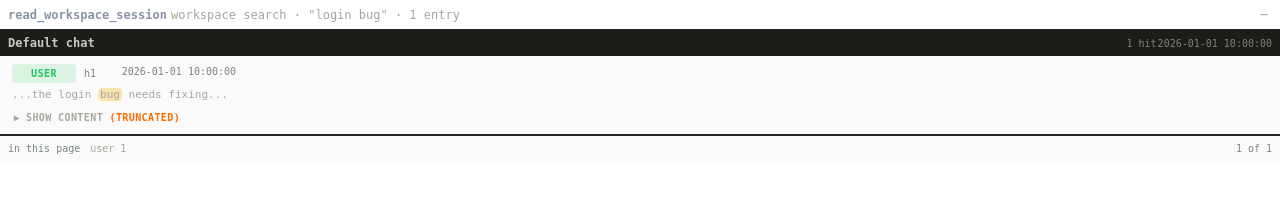
Test: ReadWorkspaceSession.vue — search entries › renders full_contents bodies behind a toggle
Click the button with test id "search-entry-toggle-full-0". click: (96, 117)
box: [12,110,180,124]
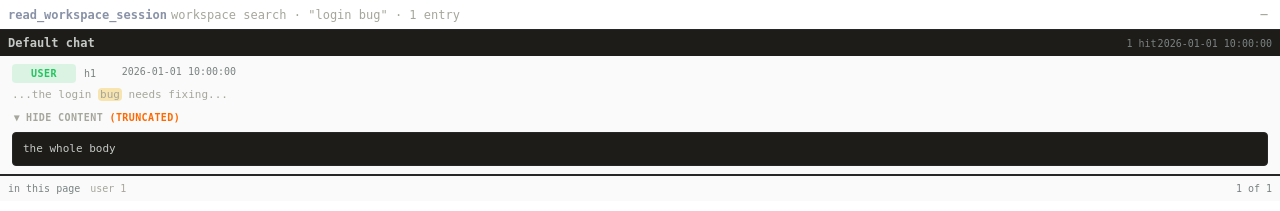
Check: the text "the whole body" is shown, box [12,132,1268,166]
Check: the text with test id "search-entry-content-0" reads "the whole body", box [23,142,116,154]
